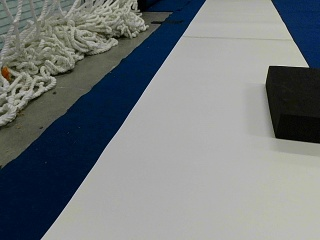block: (265, 66, 319, 141)
